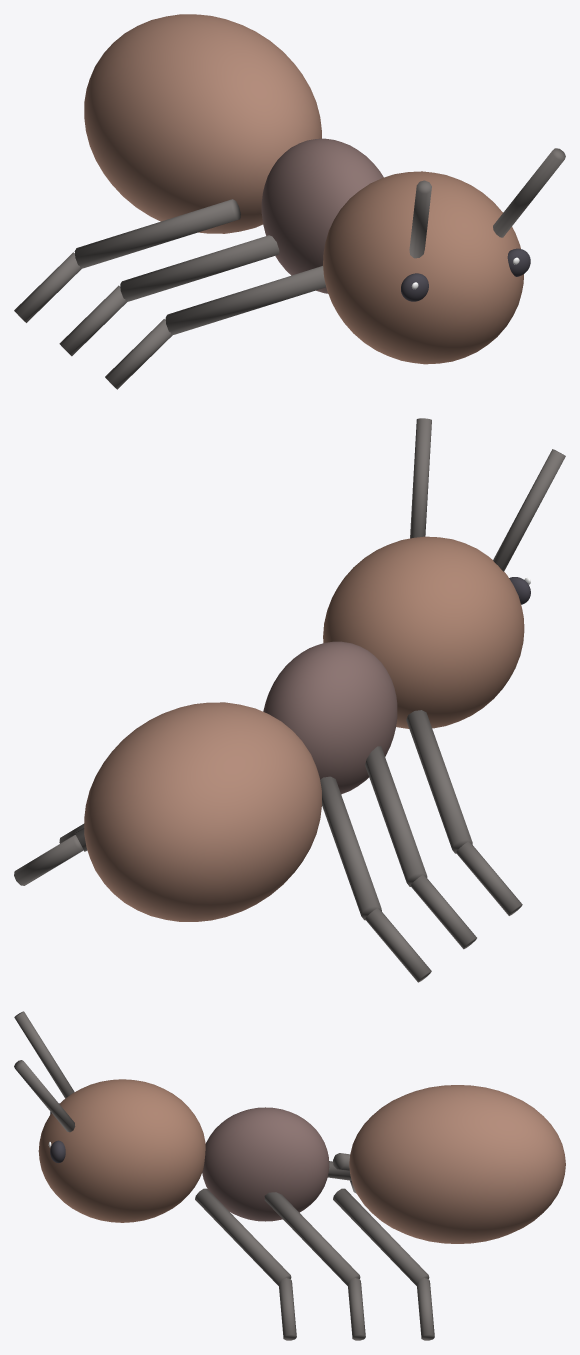
File: ant-black-garden-ant.glb
3 renders of one model, top to bottom at view 1: azimuth 30°, elevation 25°; view 2: azimuth 150°, elevation 25°; view 3: azimuth 270°, elevation 25°, orthographic. The views are drawn at different scales.
Parts seen in each view (by area): view 1: material_6c3d2d, material_653828, material_2d2927, material_3d2826, material_100f13; view 2: material_6c3d2d, material_653828, material_2d2927, material_3d2826; view 3: material_6c3d2d, material_653828, material_2d2927, material_3d2826.
Part boxes in pixels (bbox=[...]): material_6c3d2d: bbox=[84, 14, 321, 233]; material_653828: bbox=[323, 171, 523, 364]; material_2d2927: bbox=[14, 148, 565, 389]; material_3d2826: bbox=[261, 138, 383, 293]; material_100f13: bbox=[401, 248, 530, 301]; material_6c3d2d: bbox=[84, 702, 321, 921]; material_653828: bbox=[323, 536, 524, 728]; material_2d2927: bbox=[14, 418, 565, 982]; material_3d2826: bbox=[263, 641, 397, 794]; material_6c3d2d: bbox=[349, 1085, 565, 1243]; material_653828: bbox=[38, 1079, 205, 1222]; material_2d2927: bbox=[14, 1011, 434, 1340]; material_3d2826: bbox=[202, 1107, 329, 1221].
Bounding box in the file's own units: 0.7372 × 0.5178 × 1.12.
